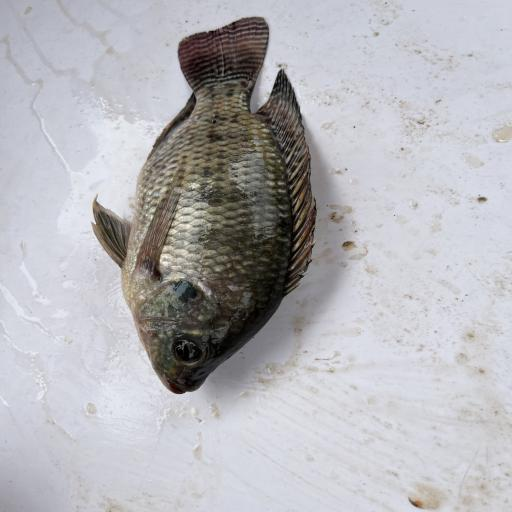Tilapia: (90, 16, 318, 396)
